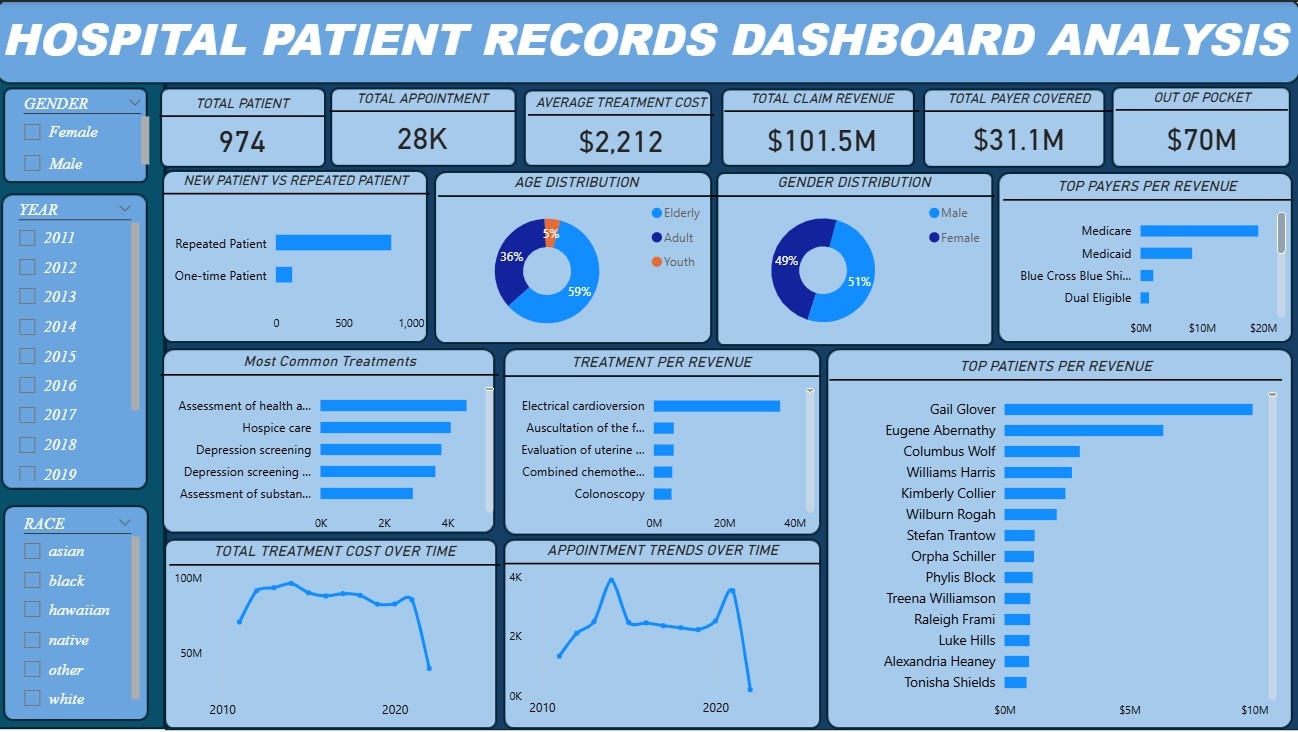

The dashboard page shown, as its layout file describes it:
{"tool":"powerbi","page":{"name":"Page 2","canvas":[1280,720],"ordinal":0},"visuals":[{"type":"card","title":"TOTAL PATIENT","fields":{"Values":["DAX Calculation.Total Patient Overtime"]},"box":[159.5,92,162,67.5],"z":0},{"type":"donutChart","title":"AGE DISTRIBUTION","fields":{"Category":["patients_table.AGE DISTRIBUTION"],"Y":["DAX Calculation.Total Patients"]},"box":[433.1,168.1,271,171],"z":1000},{"type":"card","title":"TOTAL APPOINTMENT","fields":{"Values":["DAX Calculation.Total Appointment"]},"box":[326.4,87.1,182,72.4],"z":2000},{"type":"lineChart","title":"APPOINTMENT TRENDS OVER TIME","fields":{"Y":["DAX Calculation.Total Appointment"],"Category":["DateTable.Year"]},"box":[498.2,528.8,310.4,182.8],"z":3000},{"type":"clusteredBarChart","title":"TREATMENT PER REVENUE","fields":{"Category":["procedures_summary.DESCRIPTION"],"Y":["DAX Calculation.TOTAL TREATMENT COST"]},"box":[496.9,344.8,310.4,184.1],"z":4000},{"type":"textbox","box":[0,0,1279.8,78.5],"z":5000},{"type":"clusteredBarChart","title":"Most Common Treatments","fields":{"Category":["procedures_summary.DESCRIPTION"],"Y":["CountNonNull(procedures_summary.PATIENT)"]},"box":[160.7,343.6,332,185.3],"z":6000},{"type":"slicer","fields":{"Values":["patients_table.GENDER"]},"box":[13.5,85.9,141.1,90.8],"z":7000},{"type":"slicer","fields":{"Values":["patients_table.RACE"]},"box":[13.5,498.2,131.3,203.7],"z":8000},{"type":"lineChart","title":"TOTAL TREATMENT COST OVER TIME","fields":{"Category":["DateTable.Year"],"Y":["DAX Calculation.TOTAL TREATMENT COST"]},"box":[169.3,530.1,323.9,182.8],"z":9000},{"type":"card","title":"AVERAGE TREATMENT COST","fields":{"Values":["Avg(procedures_summary.AVERAGE TREATMENT COST)"]},"box":[522,91,182,69.9],"z":10000},{"type":"card","title":"TOTAL CLAIM REVENUE","fields":{"Values":["DAX Calculation.TOTAL CLAIM REVENUE"]},"box":[714,87,191,74.8],"z":11000},{"type":"card","title":"TOTAL PAYER COVERED","fields":{"Values":["DAX Calculation.TOTAL PAYER COVERED"]},"box":[910,87.1,185,74],"z":12000},{"type":"donutChart","title":"GENDER DISTRIBUTION","fields":{"Category":["patients_table.GENDER"],"Y":["DAX Calculation.Total Patients"]},"box":[703.1,168.1,276.1,169.3],"z":13000},{"type":"card","title":"OUT OF POCKET","fields":{"Values":["DAX Calculation.OUT OF POCKET"]},"box":[1098,85.9,169,76.1],"z":14000},{"type":"barChart","title":"TOP PAYERS PER REVENUE","fields":{"Category":["payers_summary.NAME"],"Y":["DAX Calculation.TOTAL PAYER COVERED"]},"box":[987.7,171.8,282.2,165.6],"z":15000},{"type":"barChart","title":"TOP PATIENTS PER REVENUE ","fields":{"Category":["patients_table.FULL_NAME"],"Y":["DAX Calculation.TOTAL CLAIM REVENUE"]},"box":[817.2,348.5,444.2,364.4],"z":16000},{"type":"slicer","fields":{"Values":["DateTable.Year"]},"box":[8.6,190.2,136.2,284.7],"z":18000},{"type":"barChart","title":"NEW PATIENT VS REPEATED PATIENT","fields":{"Category":["patients_table.Patient Type"],"Y":["CountNonNull(patients_table.Id)"]},"box":[162,168.1,262.6,165],"z":19000}]}

Visuals, with their boxes in screenshot pixels (x1, y1, x2, y2), scaled from the page's 1280x720 canvas onto the 1298x732 screenshot:
"TOTAL PATIENT" card: 162,94,326,162
"AGE DISTRIBUTION" donutChart: 439,171,714,345
"TOTAL APPOINTMENT" card: 331,89,516,162
"APPOINTMENT TRENDS OVER TIME" lineChart: 505,538,820,723
"TREATMENT PER REVENUE" clusteredBarChart: 504,351,819,538
textbox: 0,0,1297,80
"Most Common Treatments" clusteredBarChart: 163,349,500,538
slicer - patients_table.GENDER: 14,87,157,180
slicer - patients_table.RACE: 14,507,147,714
"TOTAL TREATMENT COST OVER TIME" lineChart: 172,539,500,725
"AVERAGE TREATMENT COST" card: 529,93,714,164
"TOTAL CLAIM REVENUE" card: 724,88,918,164
"TOTAL PAYER COVERED" card: 923,89,1110,164
"GENDER DISTRIBUTION" donutChart: 713,171,993,343
"OUT OF POCKET" card: 1113,87,1285,165
"TOP PAYERS PER REVENUE" barChart: 1002,175,1288,343
"TOP PATIENTS PER REVENUE " barChart: 829,354,1279,725
slicer - DateTable.Year: 9,193,147,483
"NEW PATIENT VS REPEATED PATIENT" barChart: 164,171,431,339
